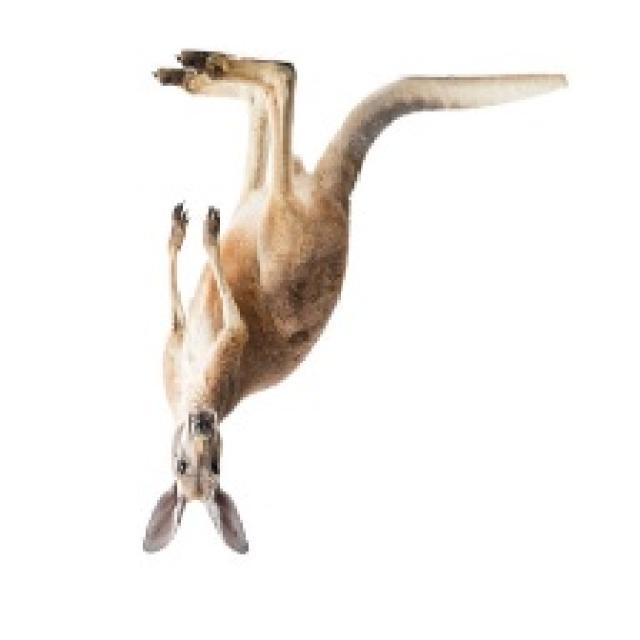animal: (89, 37, 588, 572)
